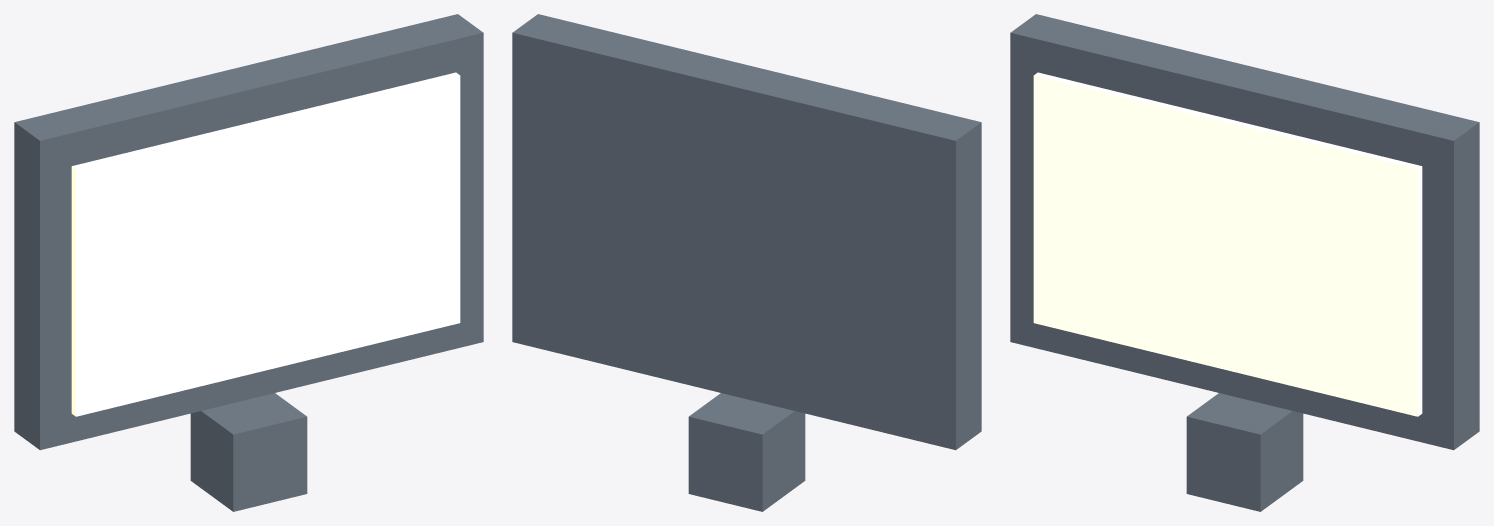
3 views of the same model, side by side, from view 1: azimuth 30°, elevation 25°; view 2: azimuth 150°, elevation 25°; view 3: azimuth 330°, elevation 25° (orthographic).
Size of the model in its own units: 0.6 by 0.53 by 0.1.
